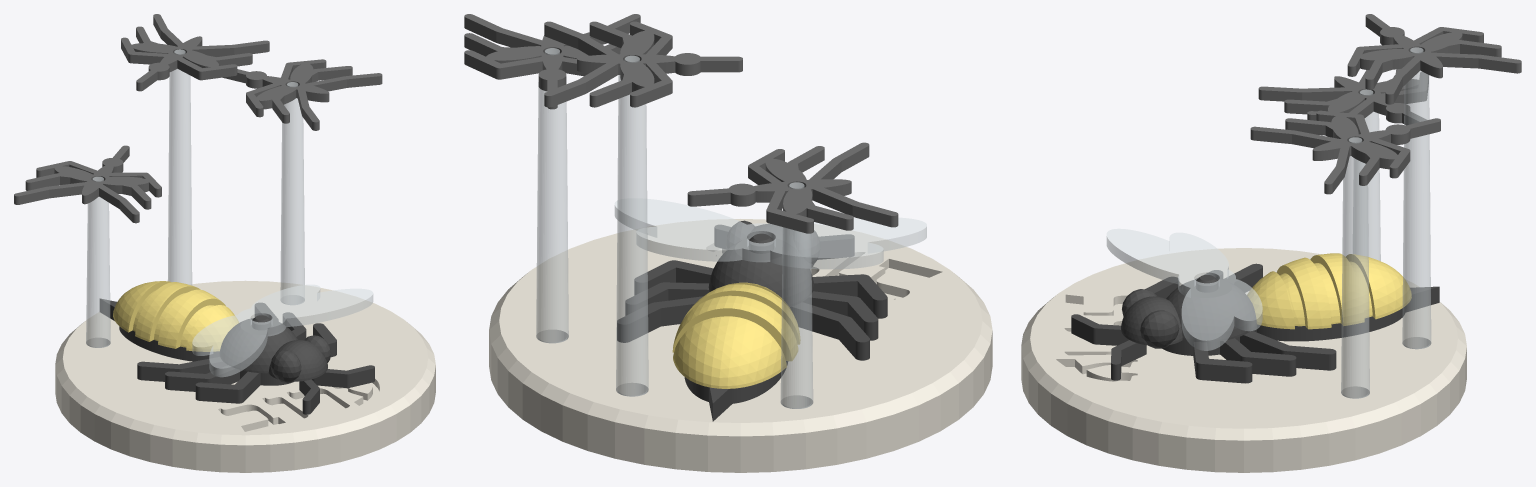
Rendered from insects.glb.
3 views of the same model, side by side, from view 1: azimuth 30°, elevation 25°; view 2: azimuth 150°, elevation 25°; view 3: azimuth 270°, elevation 25° (orthographic). The views are drawn at different scales.
Parts seen in each view (by area): view 1: stage, legs, wings, abdomen, thorax, mosquito-2, mosquito-3, stalk-3, mosquito-1, stalk-1, stalk-2; view 2: stage, legs, wings, abdomen, stalk-3, mosquito-3, mosquito-2, stalk-1, thorax, mosquito-1, stalk-2; view 3: stage, legs, abdomen, wings, thorax, stalk-3, mosquito-1, mosquito-3, stalk-1, mosquito-2, stalk-2.
Boxes of the visible parts, bbox=[...] form: stage: bbox=[55, 280, 435, 472]; legs: bbox=[99, 298, 374, 414]; wings: bbox=[192, 284, 373, 377]; abdomen: bbox=[113, 281, 239, 351]; thorax: bbox=[219, 315, 331, 383]; mosquito-2: bbox=[14, 145, 161, 223]; mosquito-3: bbox=[121, 14, 269, 91]; stalk-3: bbox=[167, 49, 192, 285]; mosquito-1: bbox=[223, 59, 382, 130]; stalk-1: bbox=[280, 82, 304, 304]; stalk-2: bbox=[86, 176, 110, 347]; stage: bbox=[489, 219, 992, 472]; legs: bbox=[617, 224, 887, 421]; wings: bbox=[614, 198, 926, 269]; abdomen: bbox=[672, 282, 800, 388]; stalk-3: bbox=[616, 55, 648, 396]; mosquito-3: bbox=[544, 21, 742, 107]; mosquito-2: bbox=[687, 142, 898, 233]; stalk-1: bbox=[536, 48, 568, 343]; thorax: bbox=[708, 220, 820, 306]; mosquito-1: bbox=[464, 14, 640, 109]; stalk-2: bbox=[780, 182, 813, 408]; stage: bbox=[1021, 248, 1466, 472]; legs: bbox=[1071, 263, 1439, 383]; abdomen: bbox=[1247, 253, 1411, 329]; wings: bbox=[1106, 228, 1262, 350]; thorax: bbox=[1121, 275, 1256, 348]; stalk-3: bbox=[1402, 47, 1431, 349]; mosquito-1: bbox=[1250, 110, 1440, 194]; mosquito-3: bbox=[1347, 14, 1521, 104]; stalk-1: bbox=[1341, 137, 1369, 398]; mosquito-2: bbox=[1258, 68, 1428, 125]; stalk-2: bbox=[1353, 89, 1380, 260].
Bounding box in the file's own units: 42.11 × 33 × 44.92.
